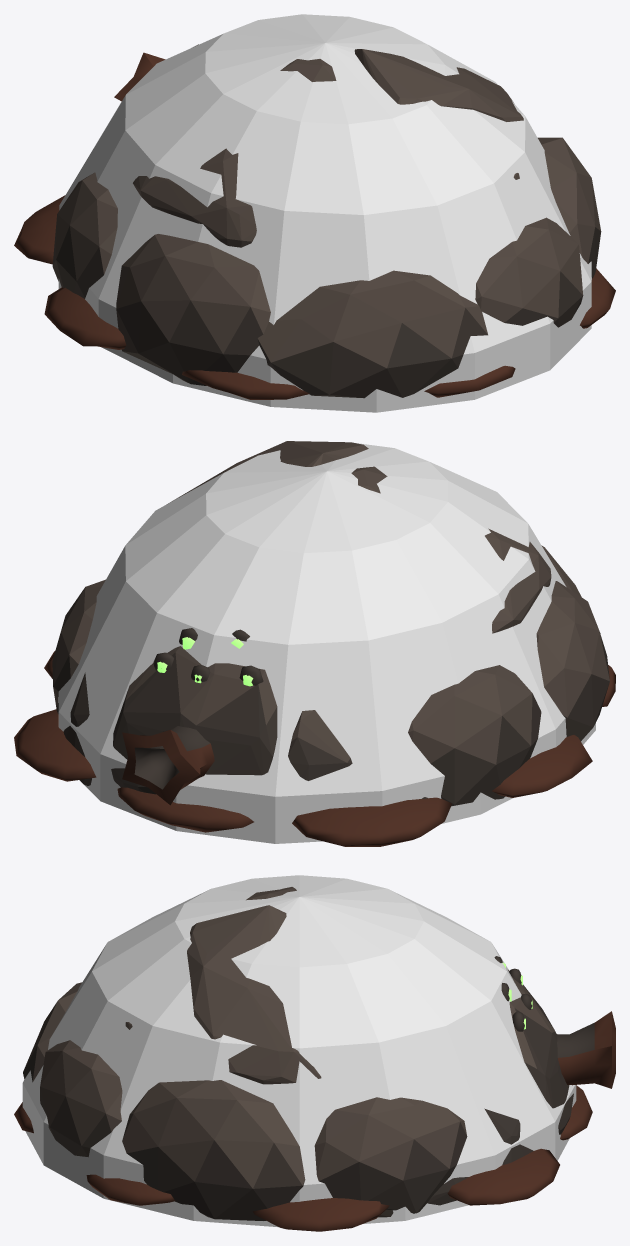
File: limpet.glb
3 renders of one model, top to bottom at view 1: azimuth 30°, elevation 25°; view 2: azimuth 150°, elevation 25°; view 3: azimuth 270°, elevation 25°, orthographic. The views are drawn at different scales.
Parts seen in each view (by area): view 1: COL_body, shell, plate_l, plate_r, skirt_6, skirt_5, skirt_7, skirt_4, skirt_3, snout; view 2: COL_body, shell, skirt_7, snout, skirt_1, plate_l, skirt_6, skirt_0, plate_r; view 3: COL_body, shell, plate_r, skirt_1, snout, skirt_2, skirt_3, skirt_0.
Boxes of the visible parts, x1,y1,x2,y2 form: COL_body: (58,14,591,412); shell: (52,44,601,398); plate_l: (133,59,336,247); plate_r: (354,49,523,121); skirt_6: (44,287,126,349); skirt_5: (182,370,309,399); skirt_7: (14,195,65,264); skirt_4: (424,365,515,397); skirt_3: (580,268,615,328); snout: (114,52,165,101); COL_body: (58,443,595,843); shell: (52,545,609,806); skirt_7: (292,797,451,846); snout: (122,726,214,805); skirt_1: (14,709,96,781); plate_l: (351,466,551,633); skirt_6: (492,735,592,797); skirt_0: (117,787,253,832); plate_r: (168,441,368,503); COL_body: (22,875,576,1227); shell: (23,956,573,1220); plate_r: (187,905,321,1084); skirt_1: (447,1148,559,1205); snout: (557,1011,615,1088); skirt_2: (253,1198,389,1231); skirt_3: (86,1174,175,1205); skirt_0: (560,1085,592,1140).
Bounding box in the file's own units: 0.8049 × 0.3717 × 0.8807.
